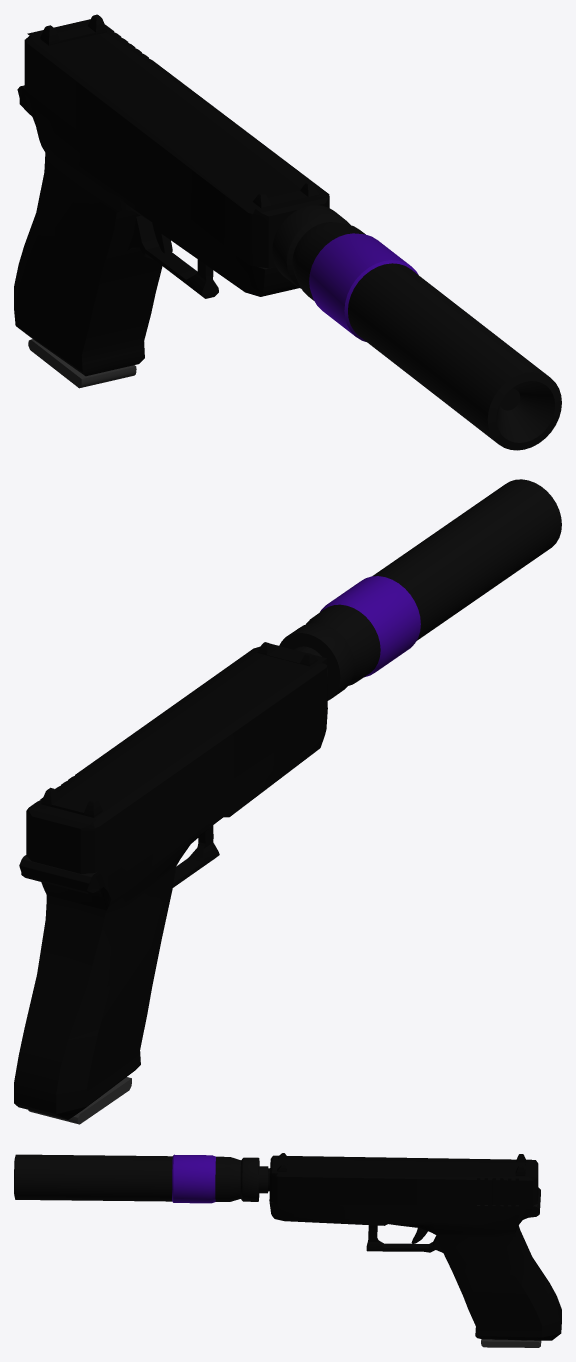
The model's file is arma_feita_por_nicholas_esteves_ferreira 1.fbx.
The picture shows the model from 3 angles, top to bottom: view 1: azimuth 30°, elevation 25°; view 2: azimuth 150°, elevation 25°; view 3: azimuth 270°, elevation 25°; orthographic projection. The views are drawn at different scales.
Visible parts, largest first — view 1: Cylinder.001, Cylinder.002; view 2: Cylinder.001, Cylinder.002; view 3: Cylinder.001, Cylinder.002.
Boxes of the visible parts, box(x1,y1,x2,y2) form: Cylinder.001: box(14, 14, 329, 388); Cylinder.002: box(272, 205, 561, 450); Cylinder.001: box(14, 642, 327, 1124); Cylinder.002: box(279, 479, 561, 700); Cylinder.001: box(259, 1153, 561, 1347); Cylinder.002: box(14, 1154, 267, 1203).
Bounding box in the file's own units: 94.48 × 317 × 874.
